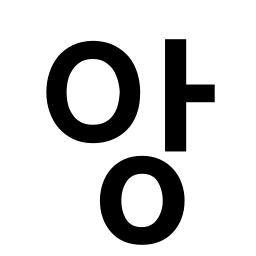Gaji: (153, 73, 202, 119)
